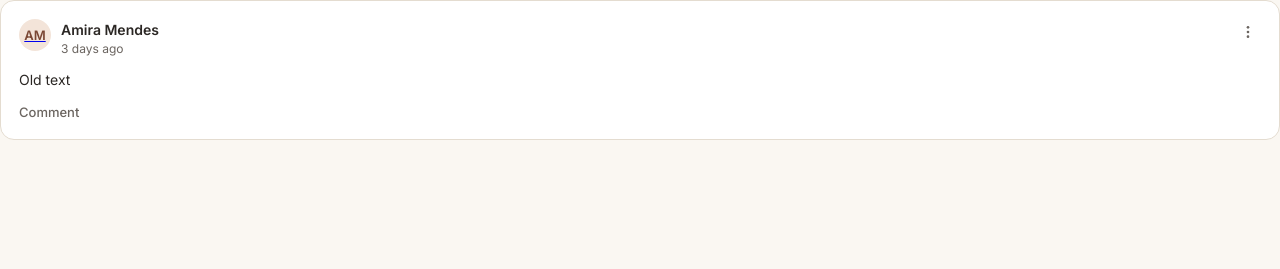
PostCard › edits inline: Save shows the new text at once and sends it
This screenshot has width=1280, height=269.
Click the button named "Post actions": (1248,32) 1235,19 -> 1261,45
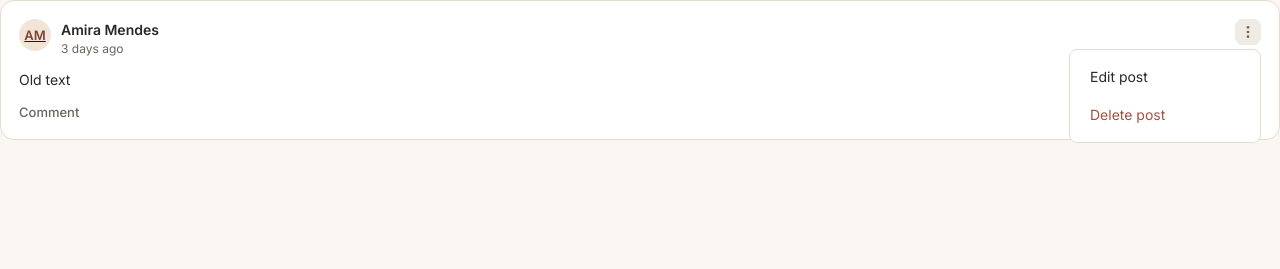
Click the menu item "Edit post": (1119,76) 1090,68 -> 1148,85
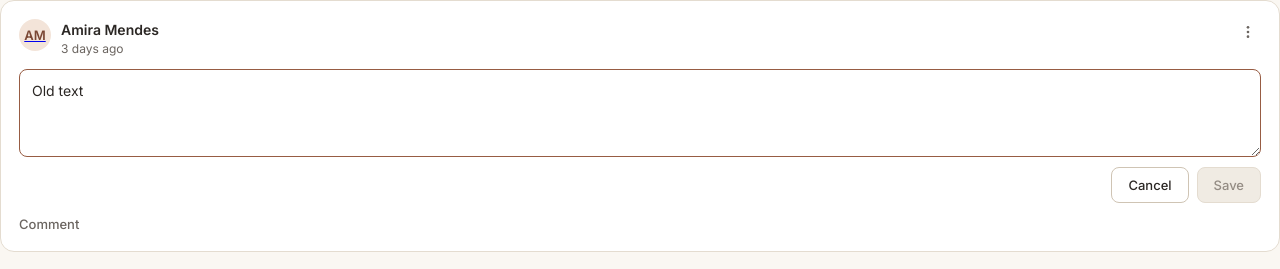
Replace the text in the text box named "Edit post" with "  New text ": (640,113) 19,69 -> 1261,157
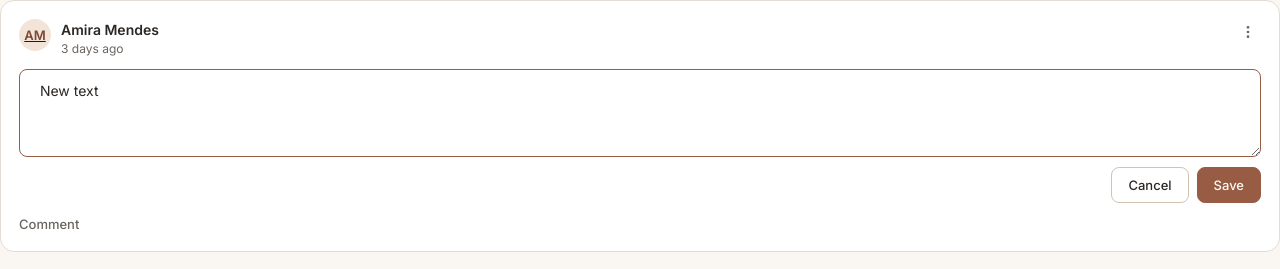
Click the button "Save": (1229,185) 1196,167 -> 1261,203
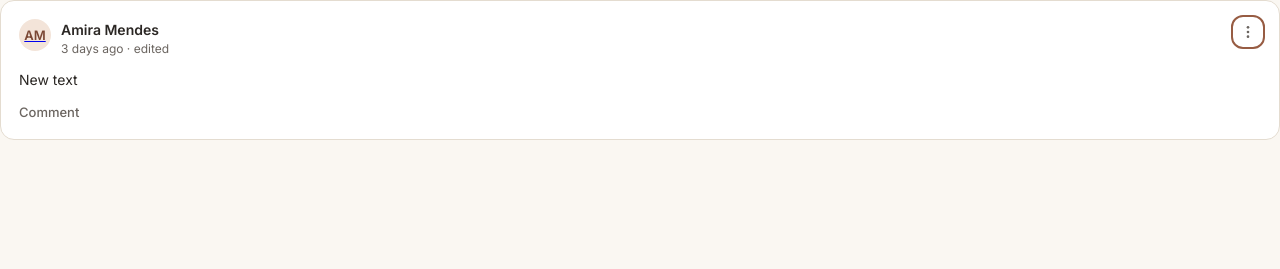
Expected: the menu item "Edit post" is not shown
Result: the text "New text" is shown at 19,71 -> 78,88
